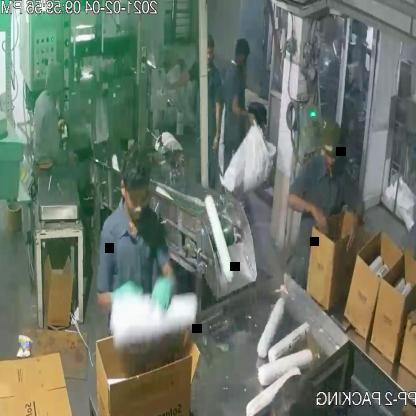glove: (91, 274, 146, 320), (151, 267, 176, 313)
no_glove: (284, 182, 329, 233), (340, 189, 365, 256), (229, 89, 260, 133), (163, 56, 194, 96), (212, 84, 226, 155), (404, 300, 416, 340)
